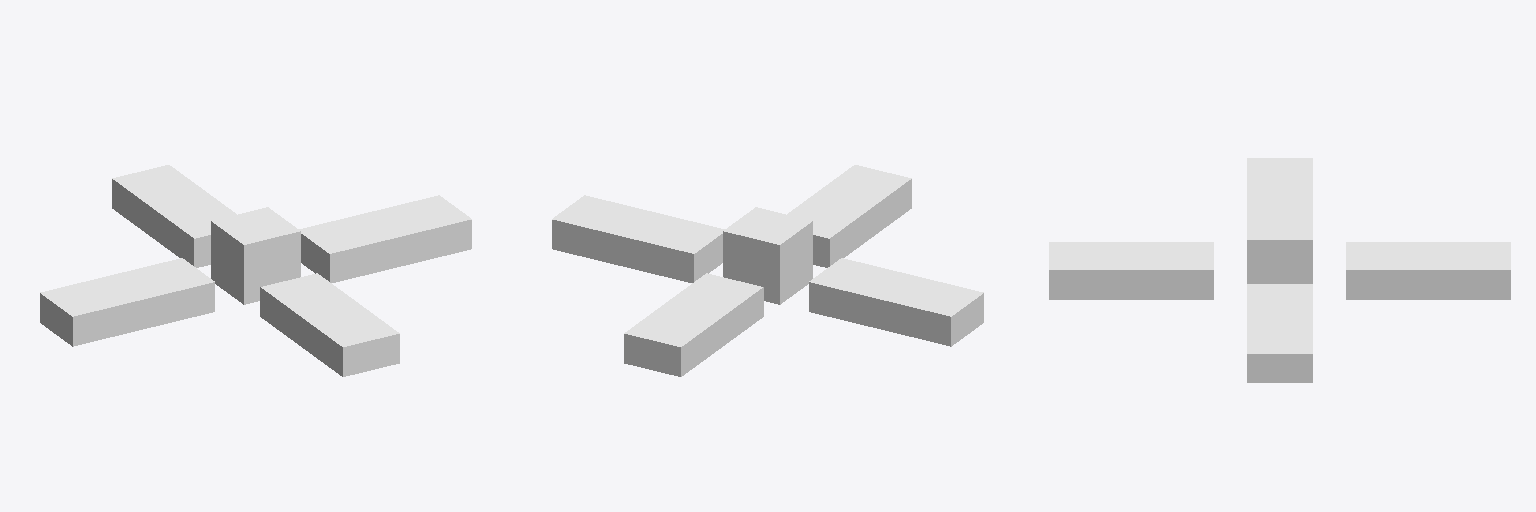
The model's file is ExtractorFan1_Fan.obj.
3 views of the same model, side by side, from view 1: azimuth 30°, elevation 25°; view 2: azimuth 150°, elevation 25°; view 3: azimuth 270°, elevation 25° (orthographic).
Parts seen in each view (by area): view 1: ExtractorFan1_Fan; view 2: ExtractorFan1_Fan; view 3: ExtractorFan1_Fan.
Part boxes in pixels (x1,y1,x2,y2): ExtractorFan1_Fan: (40,165,471,376); ExtractorFan1_Fan: (552,165,983,376); ExtractorFan1_Fan: (1049,158,1510,382).
Bounding box in the file's own units: 0.882 × 0.126 × 0.882.